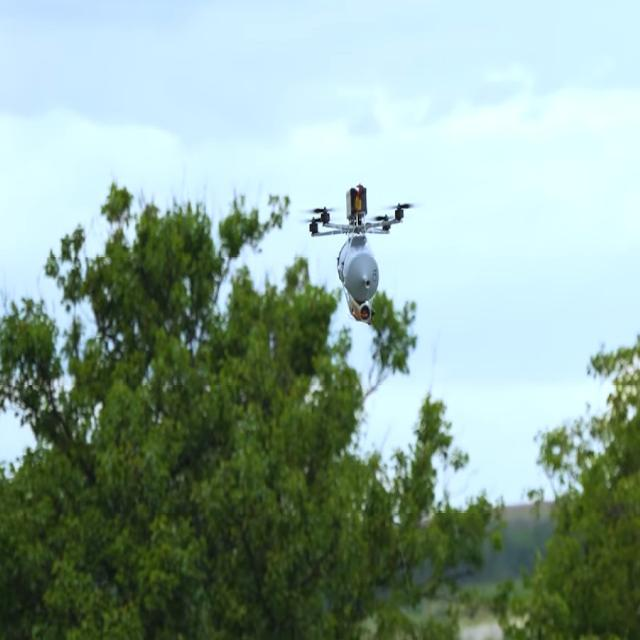drone: (301, 182, 419, 326)
